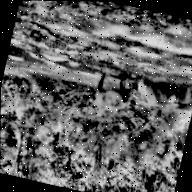boar: (89, 71, 141, 119)
